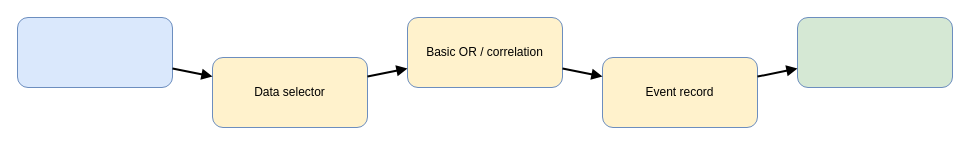
Some shapes in this 970 by 145 pixel diagram are drawn without their labels. The shapes that lost their labels are listed below. From the top down, each one's centre as x and y in pixels, then its label:
the point at 94,52: Analytics logs
the point at 874,52: Notification
